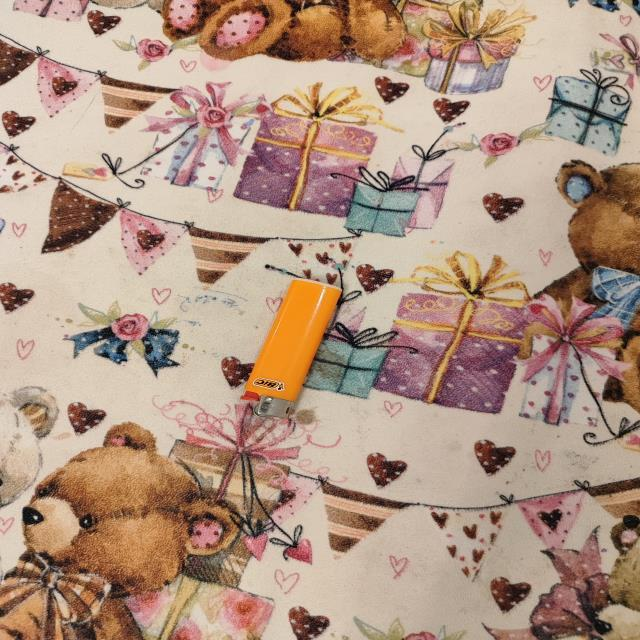lighter: (241, 279, 339, 415)
